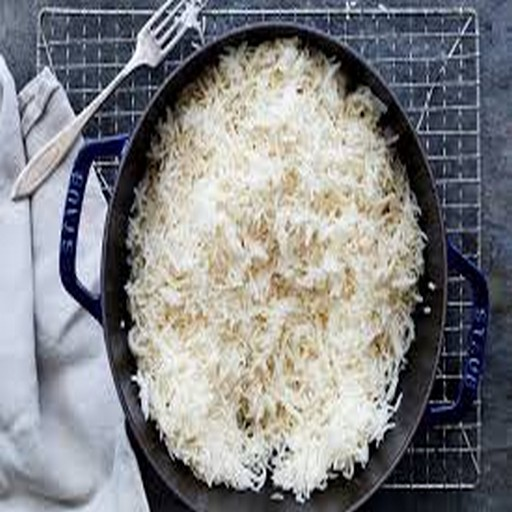rice: (189, 230, 319, 385)
